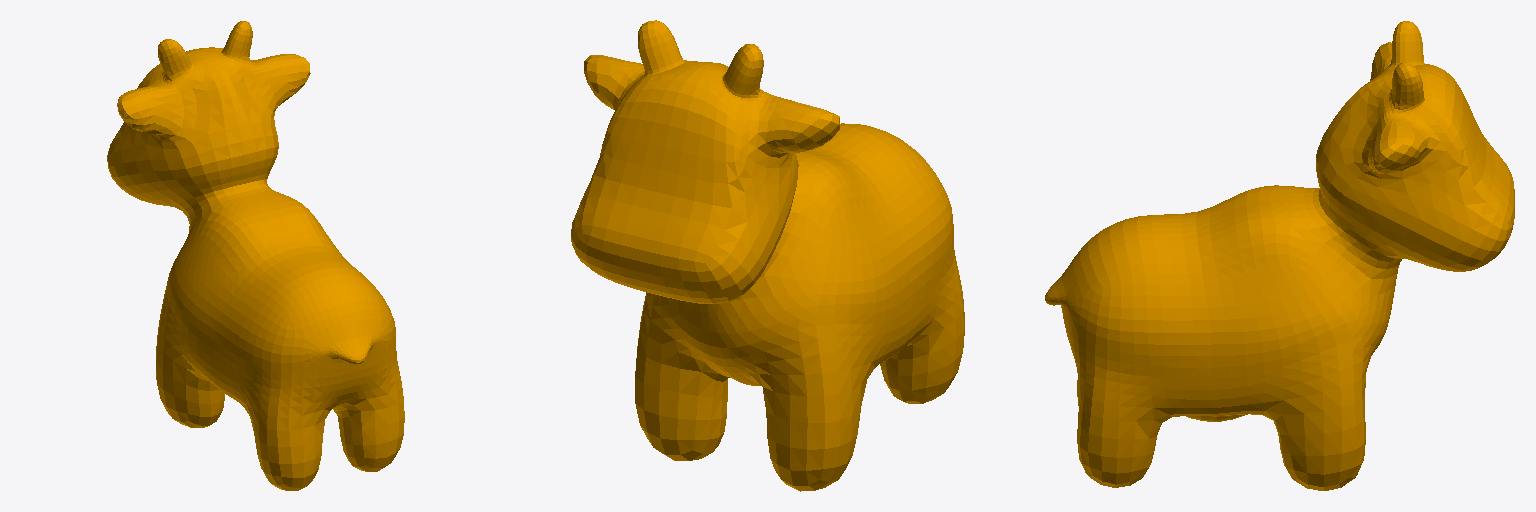
robot.urdf — spot:

<robot name="spot">
    <link name="base">
        <inertial>
            <origin xyz="-0.0 0.0 0.0" />
            <mass value="0.2763" />
            <inertia ixx="0.0426" ixy="0.0" 
                     ixz="0.0" iyy="0.0231" 
                     iyz="-0.0127" izz="0.0296" />
        </inertial>
        <visual>
            <origin xyz="0 0 0" />
            <geometry>
                <mesh filename="visual_geometry.obj" />
            </geometry>
        </visual>
        <collision>
            <origin xyz="0 0 0" />
            <geometry>
                <mesh filename="collision_geometry.obj" />
            </geometry>
        </collision>
    </link>
</robot>

--- What the picture shows (computed from the rendered views, not written in the file) ---
The picture shows the robot from 3 angles, left to right: view 1: azimuth 30°, elevation 25°; view 2: azimuth 150°, elevation 25°; view 3: azimuth 270°, elevation 25°; orthographic projection.
Robot: spot — 1 links, 0 joints (none); root link base; default pose: every joint at zero.
Visible links, largest first — view 1: base; view 2: base; view 3: base.
Boxes of the visible links, x1,y1,x2,y2 form: base: (107, 21, 404, 490); base: (571, 20, 964, 491); base: (1045, 21, 1514, 490).
Bounding box of the posed robot: 0.6859 × 1.25 × 1.23 m (x, y, z).
Meshes: 1 distinct files referenced, 1 mesh visuals loaded (1 OBJ).